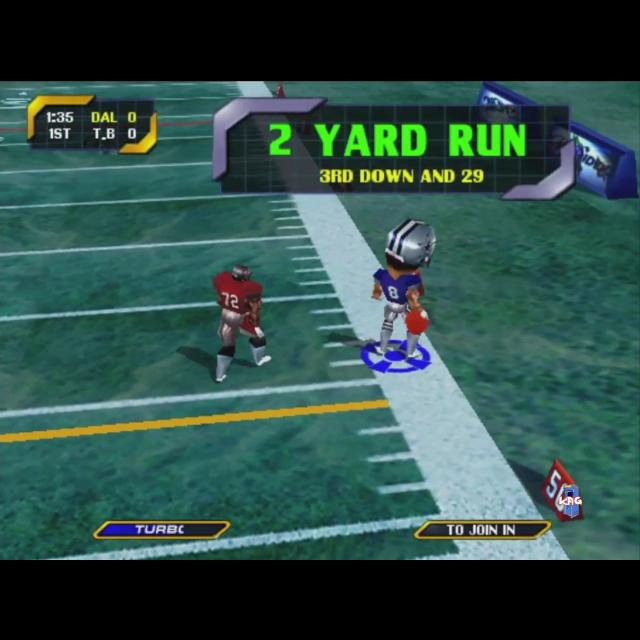player: (370, 216, 436, 356), (210, 263, 272, 382)
